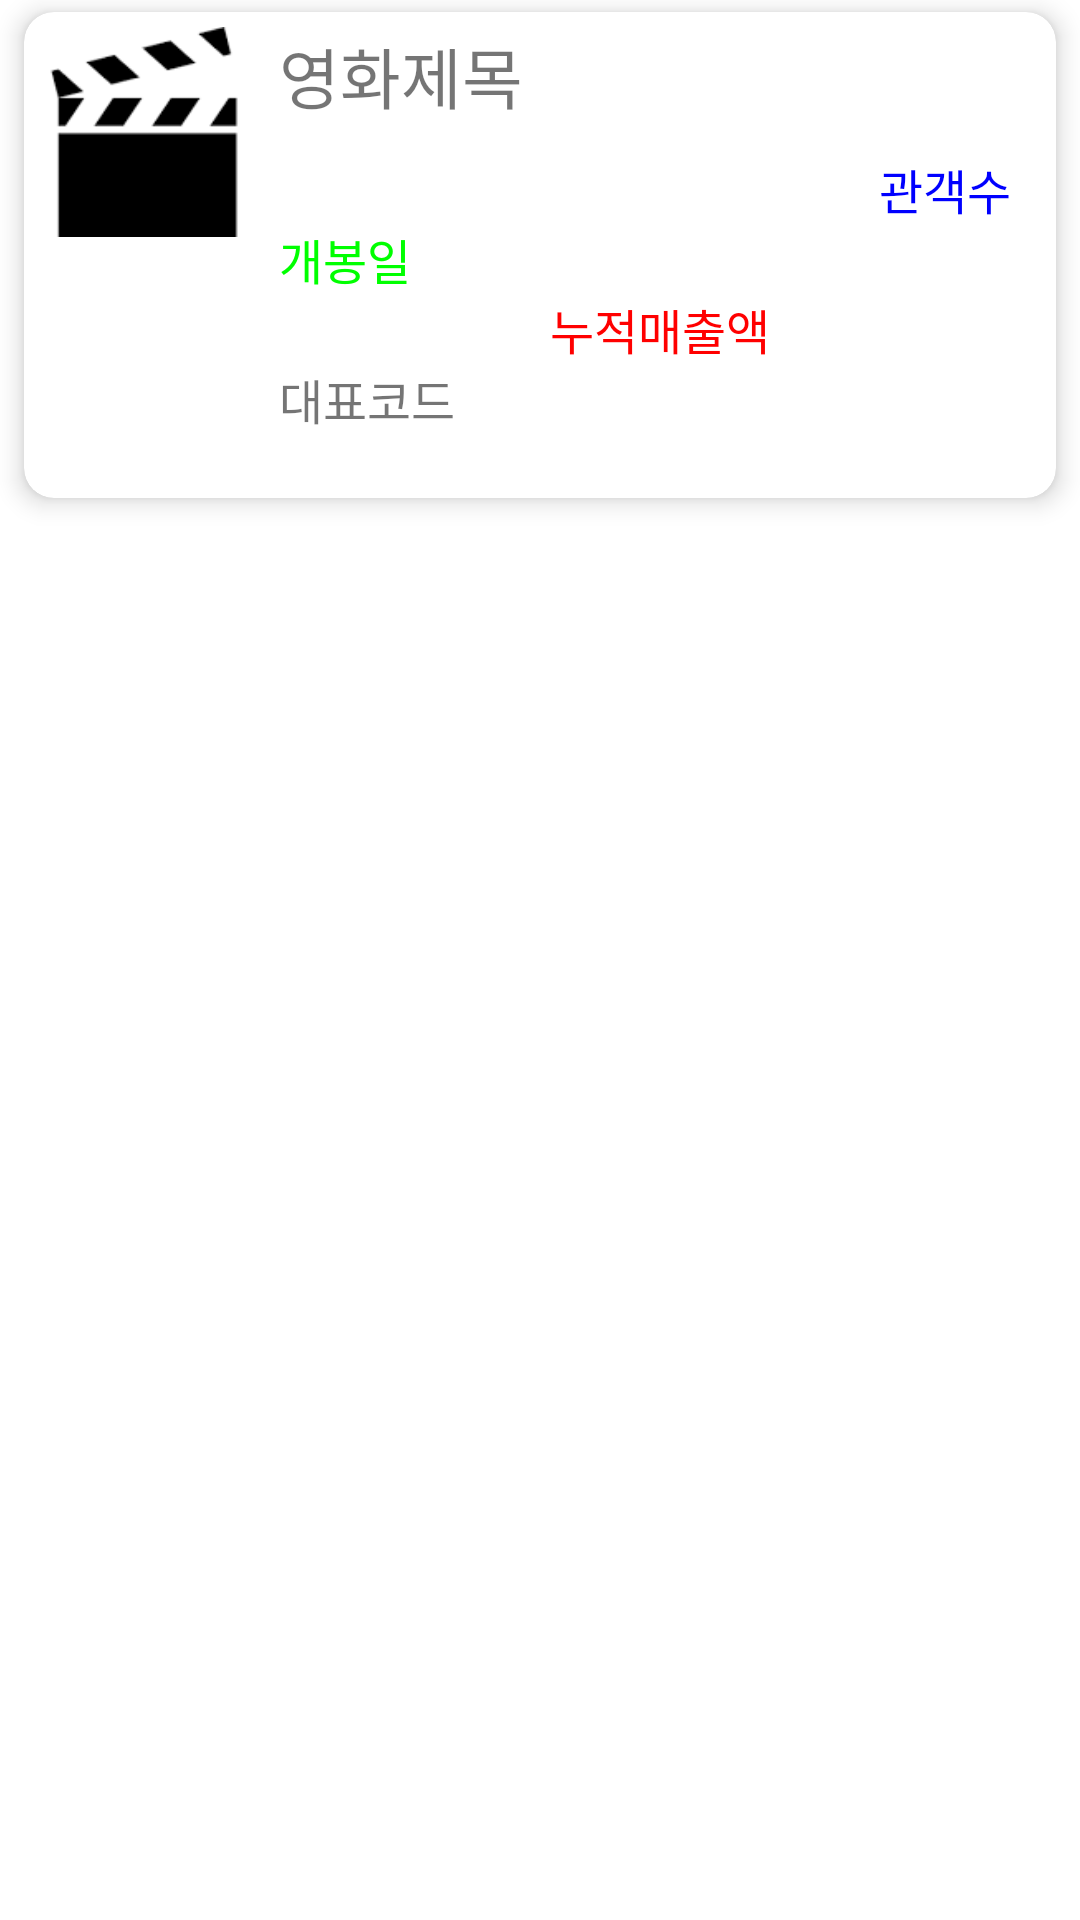

Named icons in this screenshot (1080 × 1920) and their centers, [x,y]:
movie: [141,124]
